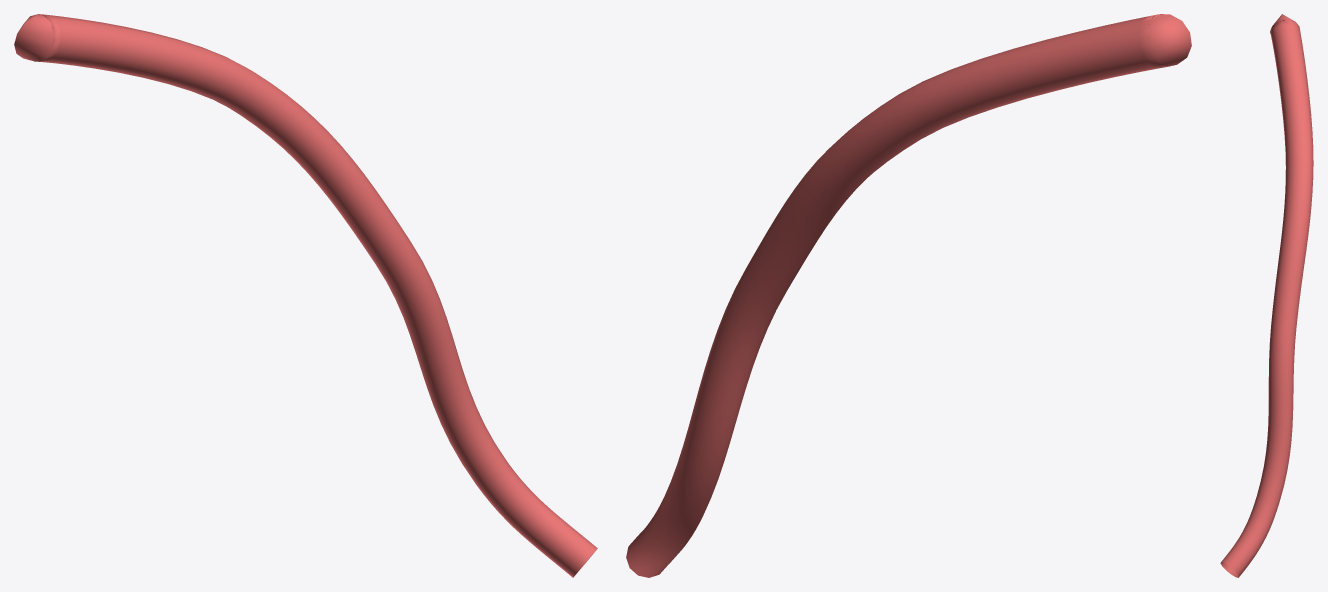
Rendered from Lateral_tarsal_artery.l_BezierCurve.182.glb.
3 views of the same model, side by side, from view 1: azimuth 30°, elevation 25°; view 2: azimuth 150°, elevation 25°; view 3: azimuth 270°, elevation 25° (orthographic). The views are drawn at different scales.
Visible parts, largest first — view 1: Lateral_tarsal_artery.l_BezierCurve.182; view 2: Lateral_tarsal_artery.l_BezierCurve.182; view 3: Lateral_tarsal_artery.l_BezierCurve.182.
Part boxes in pixels (x1,y1,x2,y2): Lateral_tarsal_artery.l_BezierCurve.182: (14,14,597,577); Lateral_tarsal_artery.l_BezierCurve.182: (626,14,1191,577); Lateral_tarsal_artery.l_BezierCurve.182: (1220,14,1313,577).
Bounding box in the file's own units: 0.0389 × 0.0448 × 0.00924.
